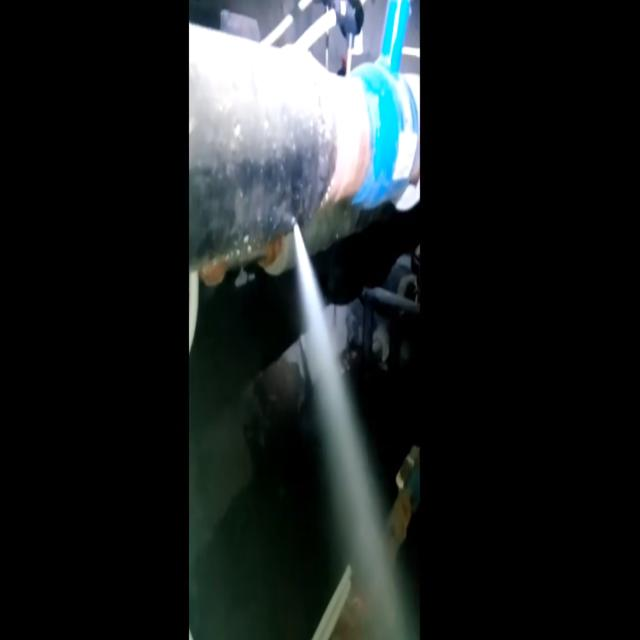leak: (293, 219, 429, 640)
